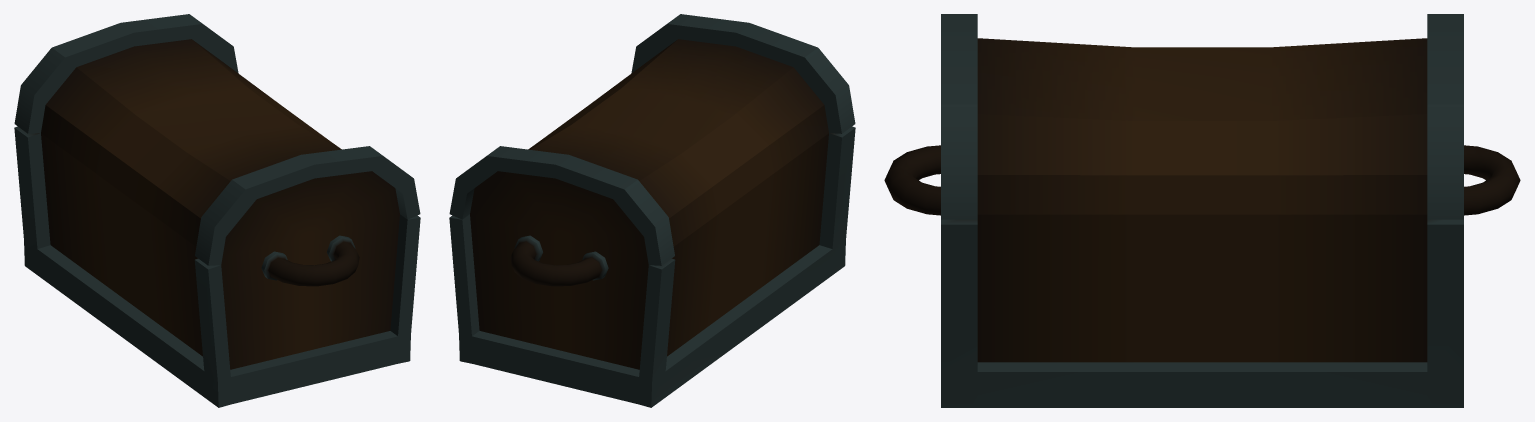
Rendered from Chest.fbx.
3 renders of one model, left to right at view 1: azimuth 30°, elevation 25°; view 2: azimuth 150°, elevation 25°; view 3: azimuth 270°, elevation 25°, orthographic. The views are drawn at different scales.
Visible parts, largest first — view 1: Chest; view 2: Chest; view 3: Chest.
Part boxes in pixels (x1=…): Chest: x1=14, y1=14, x2=420, y2=407; Chest: x1=449, y1=14, x2=855, y2=407; Chest: x1=884, y1=14, x2=1520, y2=407.
Size of the model in its own units: 122 by 120 by 234.
